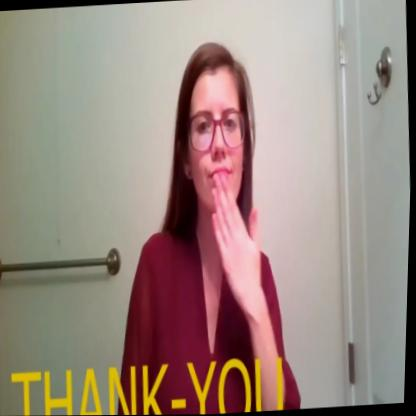ThankYou: (163, 33, 284, 341)
